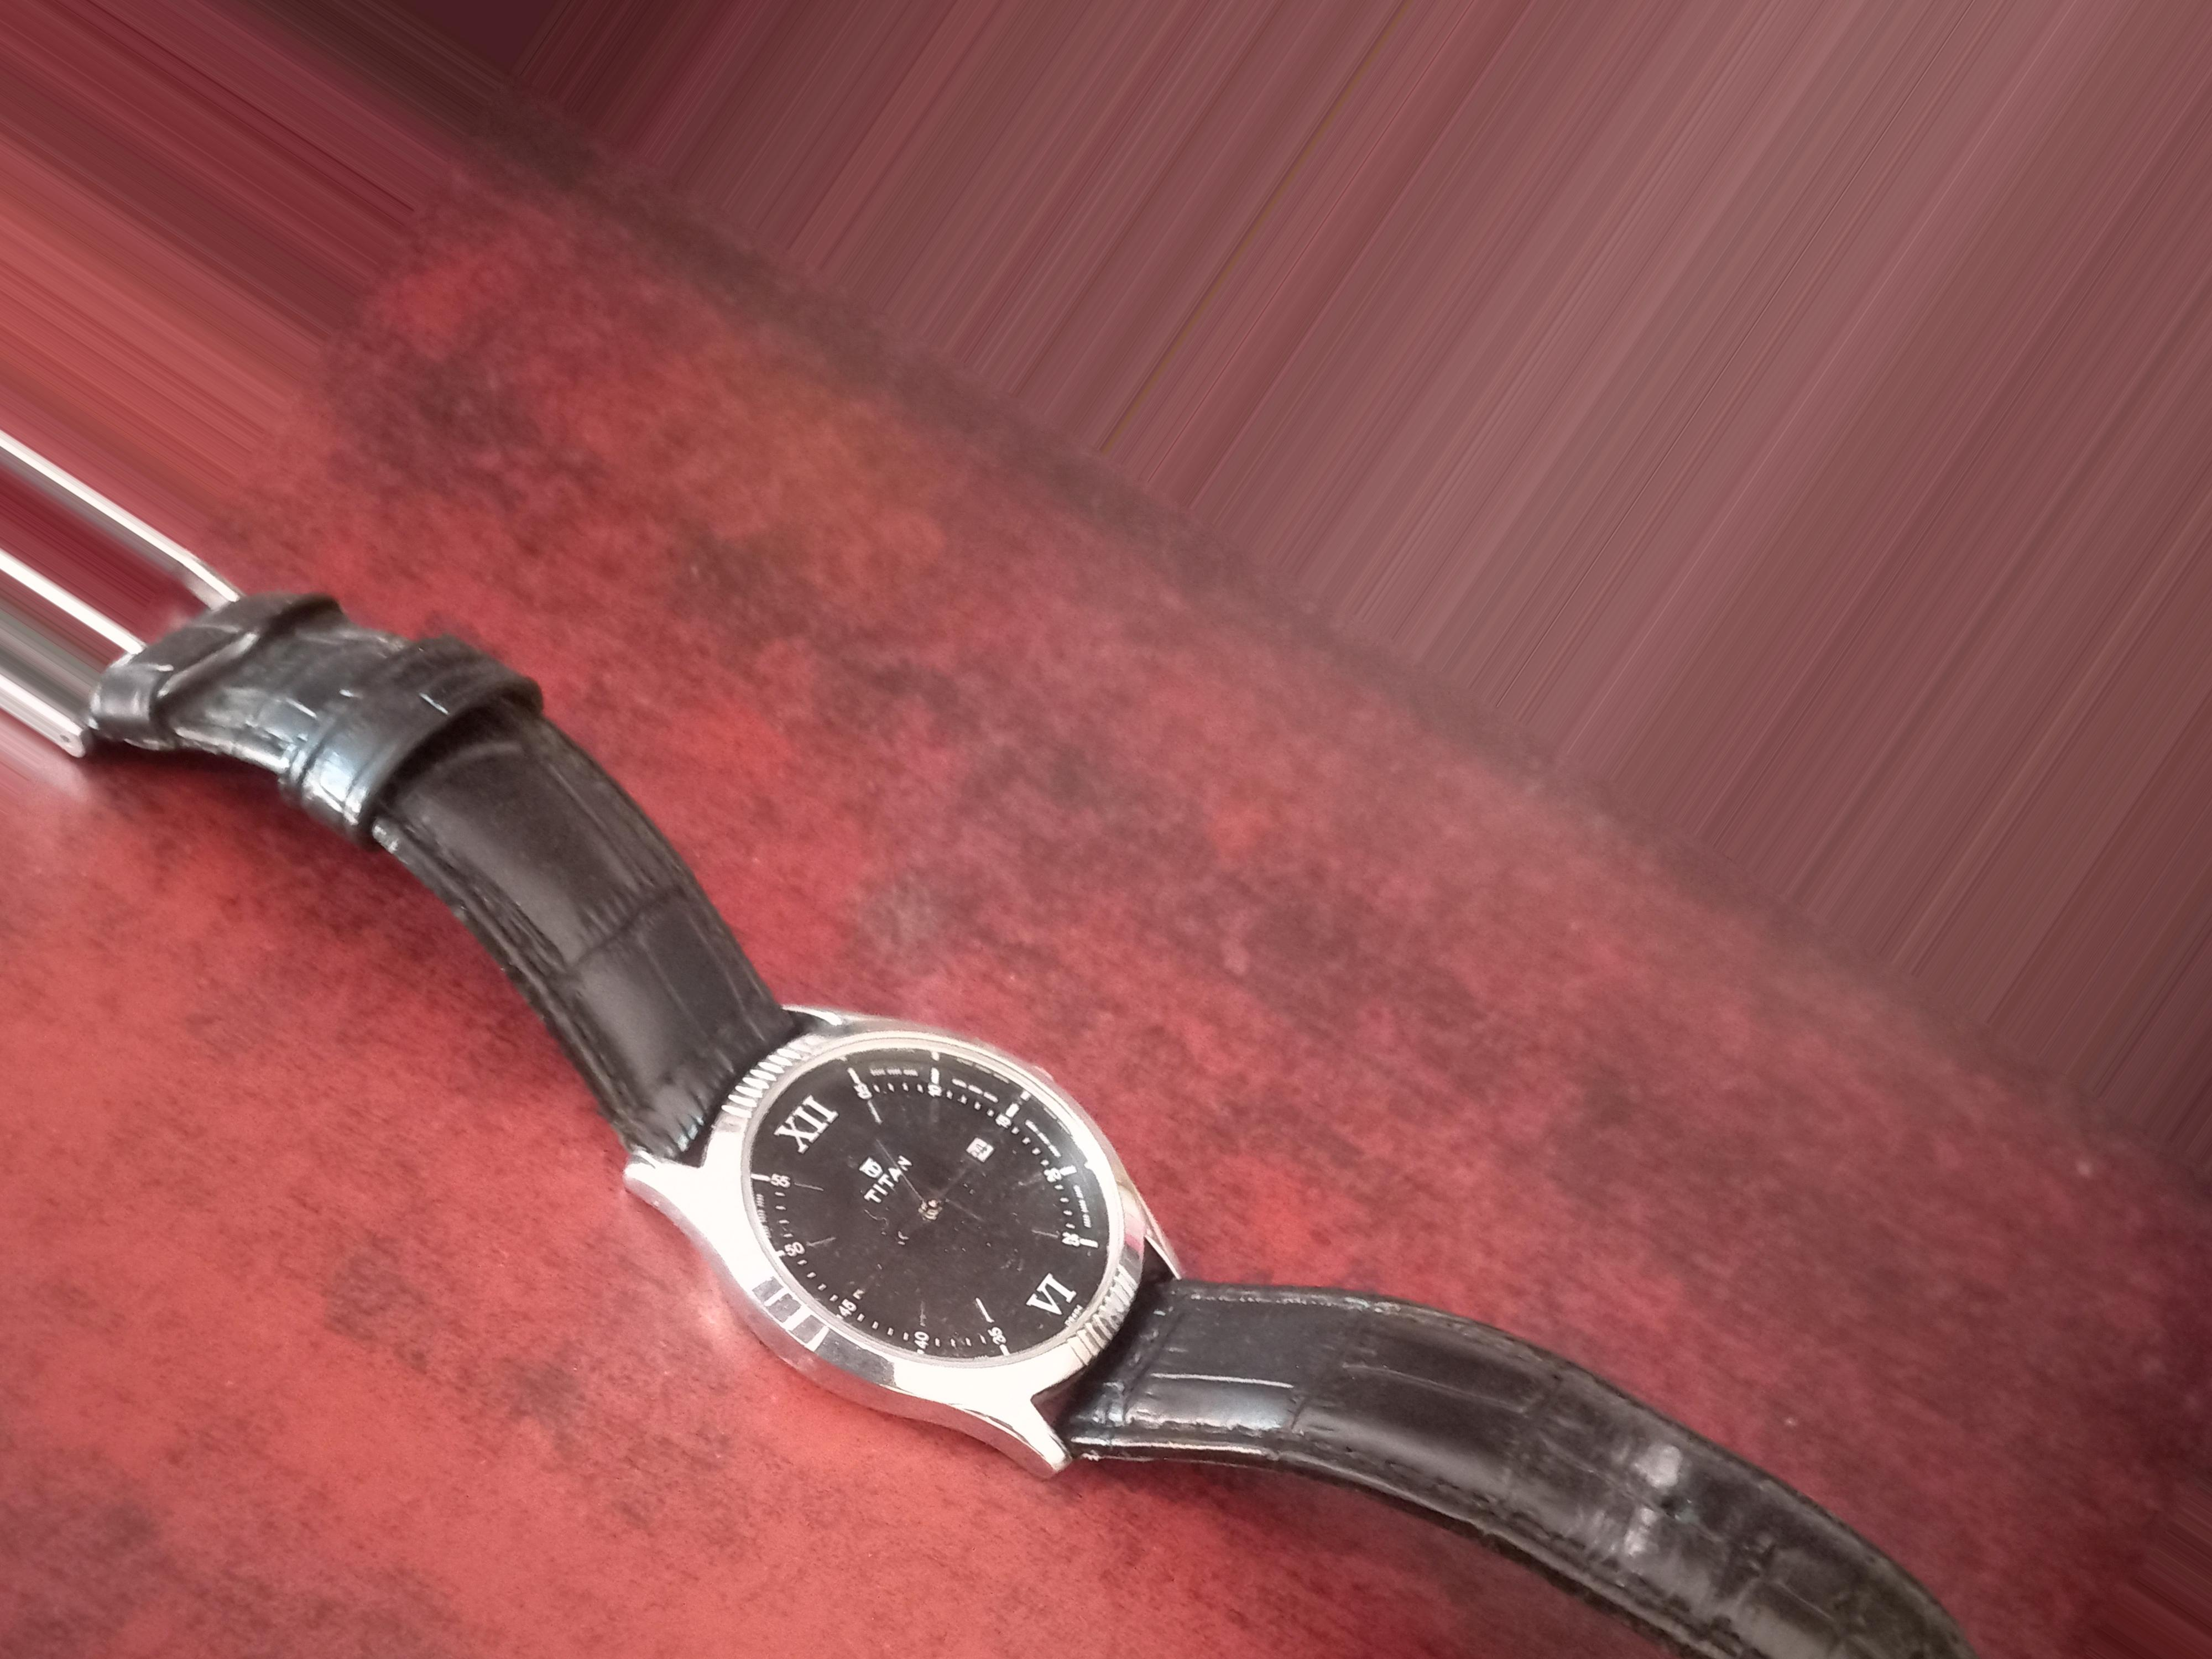watch: (5, 866, 2212, 1659)
